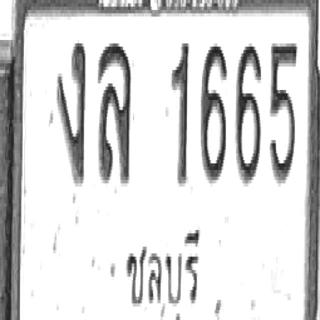A07: (56, 40, 85, 183)
A36: (97, 40, 131, 183)
N01: (170, 40, 190, 183)
N05: (269, 40, 297, 183)
N06: (235, 40, 261, 183), (200, 42, 226, 182)
P13: (120, 217, 203, 320)
